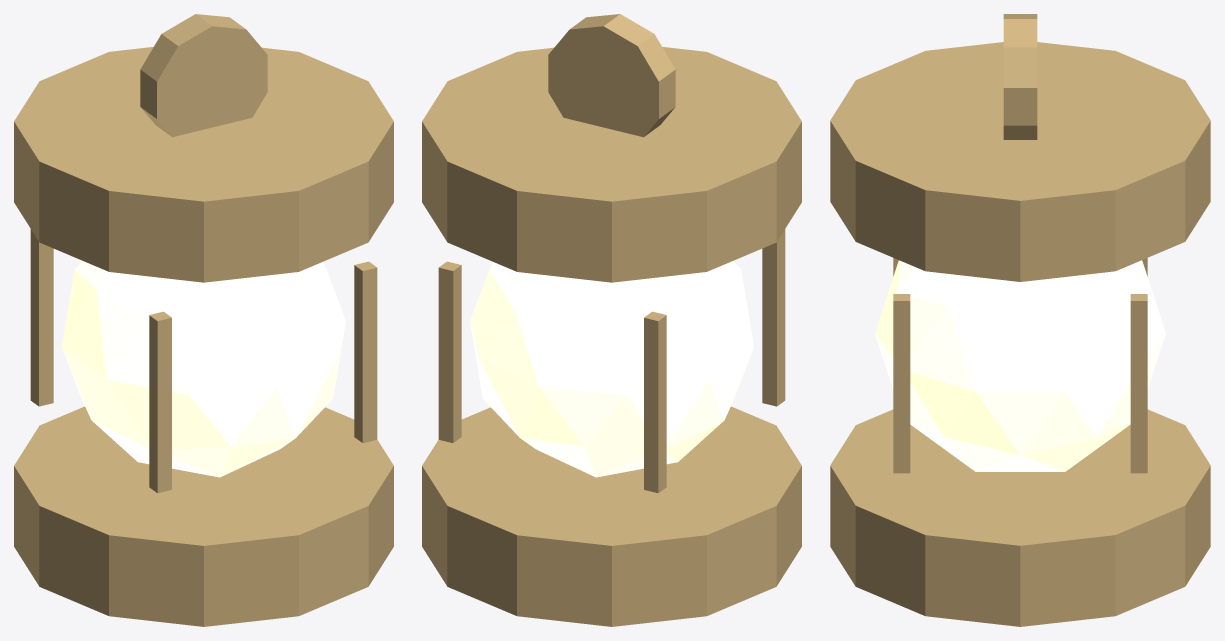
The model's file is lantern.glb.
3 renders of one model, left to right at view 1: azimuth 30°, elevation 25°; view 2: azimuth 150°, elevation 25°; view 3: azimuth 270°, elevation 25°, orthographic.
Parts seen in each view (by area): view 1: Cap, Base, Core, Hook, Bar3, Bar2, Bar1; view 2: Cap, Base, Core, Hook, Bar0, Bar1, Bar2; view 3: Cap, Base, Core, Hook, Bar0, Bar3.
Boxes of the visible parts, box(x1,y1,x2,y2) form: Cap: box(14, 47, 393, 282); Base: box(14, 406, 393, 626); Core: box(62, 261, 345, 477); Hook: box(140, 14, 267, 137); Bar3: box(354, 261, 377, 442); Bar2: box(149, 311, 171, 493); Bar1: box(30, 229, 53, 406); Cap: box(422, 47, 801, 282); Base: box(422, 406, 801, 626); Core: box(470, 261, 753, 477); Hook: box(548, 14, 675, 137); Bar0: box(438, 261, 461, 442); Bar1: box(644, 311, 666, 493); Bar2: box(762, 229, 785, 406); Cap: box(830, 42, 1210, 281); Base: box(830, 409, 1210, 626); Core: box(875, 260, 1165, 471); Hook: box(1003, 14, 1037, 139); Bar0: box(1130, 294, 1147, 473); Bar3: box(893, 294, 910, 473).
Size of the model in its own units: 0.34 by 0.52 by 0.34.
